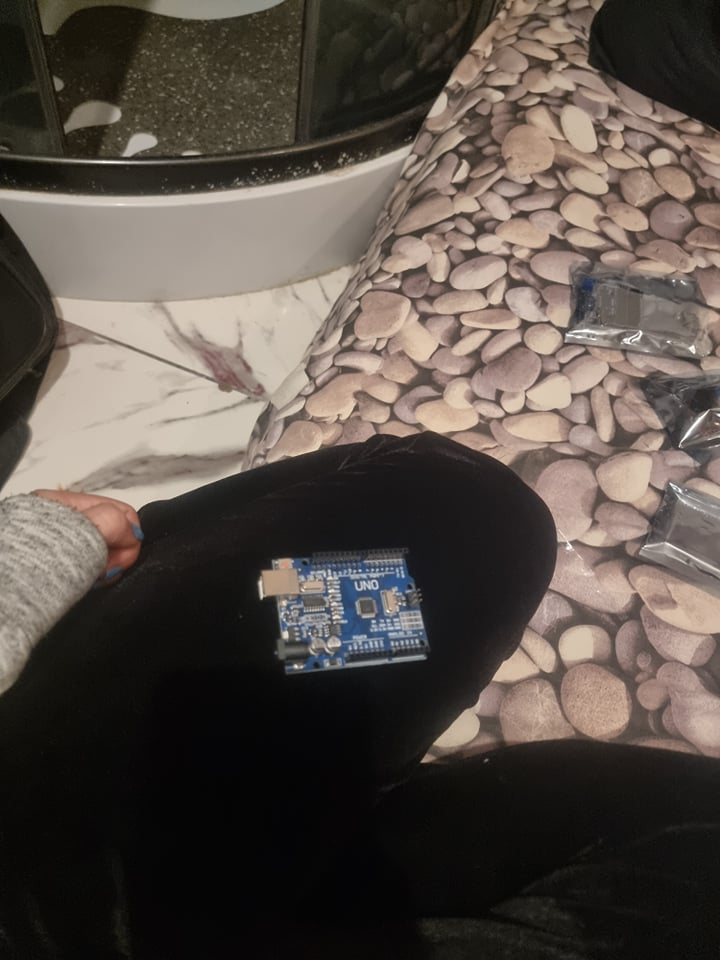UNO R3: (257, 544, 433, 678)
